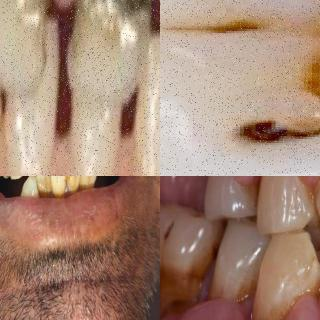Gum Swelling: (181, 299, 247, 320), (281, 293, 319, 320)
cavities: (205, 0, 320, 176), (76, 0, 142, 96), (0, 0, 55, 58)
maligned: (254, 217, 320, 320)
stains: (212, 255, 258, 311), (244, 277, 295, 320), (50, 176, 70, 198), (36, 176, 52, 202), (68, 176, 82, 194)
